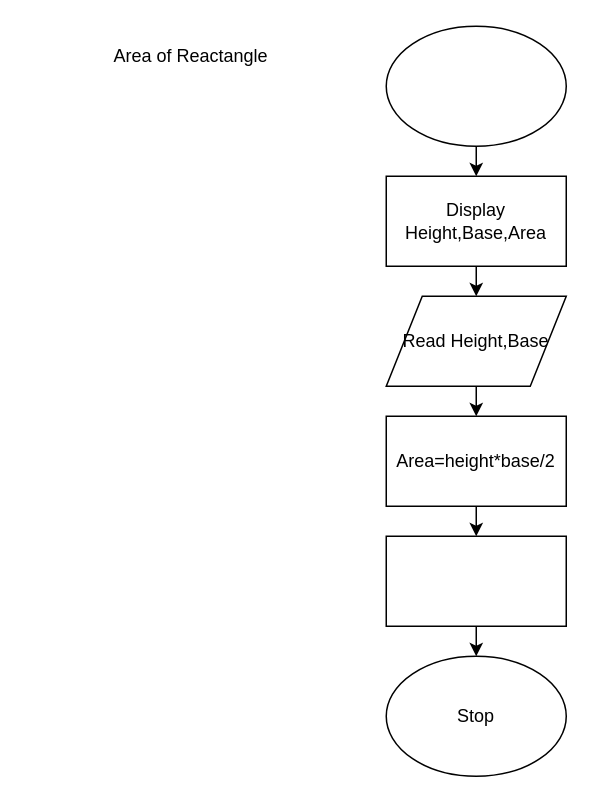
Image size: 593x803. Some labels were removed from this diagram. The shapes that lost their labels are listed below. From the top down, each one's centre as x and y in pixels, then its label:
At pixel 475 85: "start".
At pixel 475 580: "Display Area".
